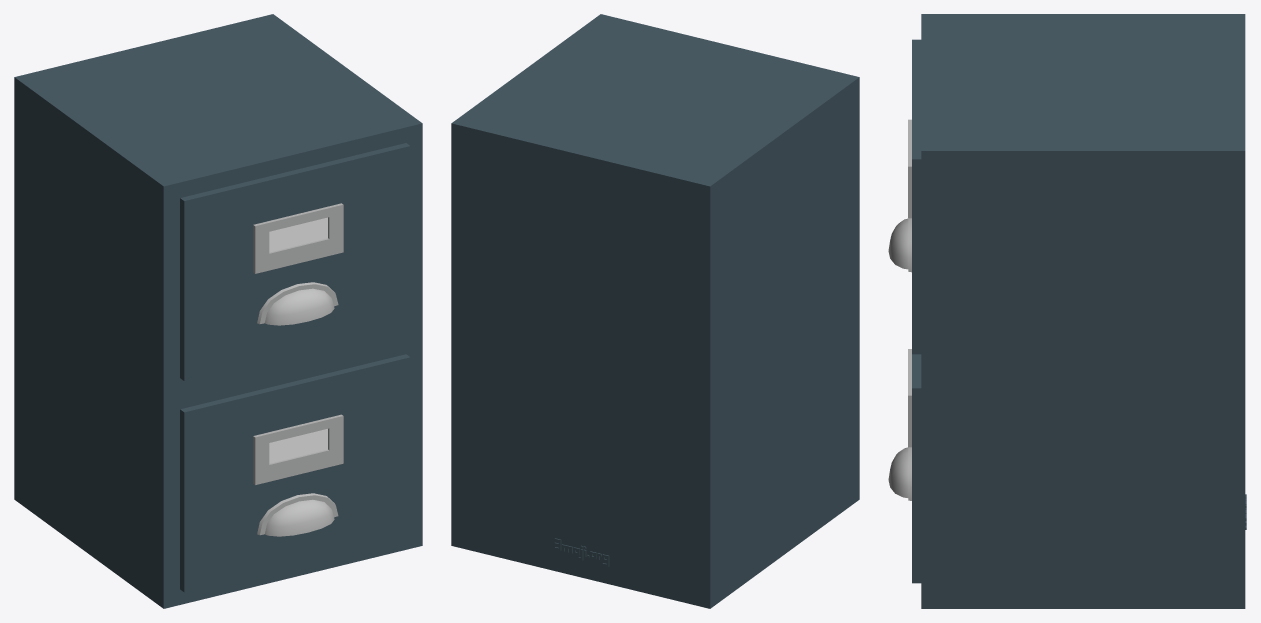
File: file_cabinet.fbx
The picture shows the model from 3 angles, left to right: view 1: azimuth 30°, elevation 25°; view 2: azimuth 150°, elevation 25°; view 3: azimuth 270°, elevation 25°; orthographic projection. The views are drawn at different scales.
Parts seen in each view (by area): view 1: Cube.988; view 2: Cube.988; view 3: Cube.988.
Boxes of the visible parts, x1,y1,x2,y2 form: Cube.988: [14, 14, 422, 608]; Cube.988: [451, 14, 859, 608]; Cube.988: [888, 14, 1246, 608].
Size of the model in its own units: 126 by 199 by 139.
1 material, 1 textured.
